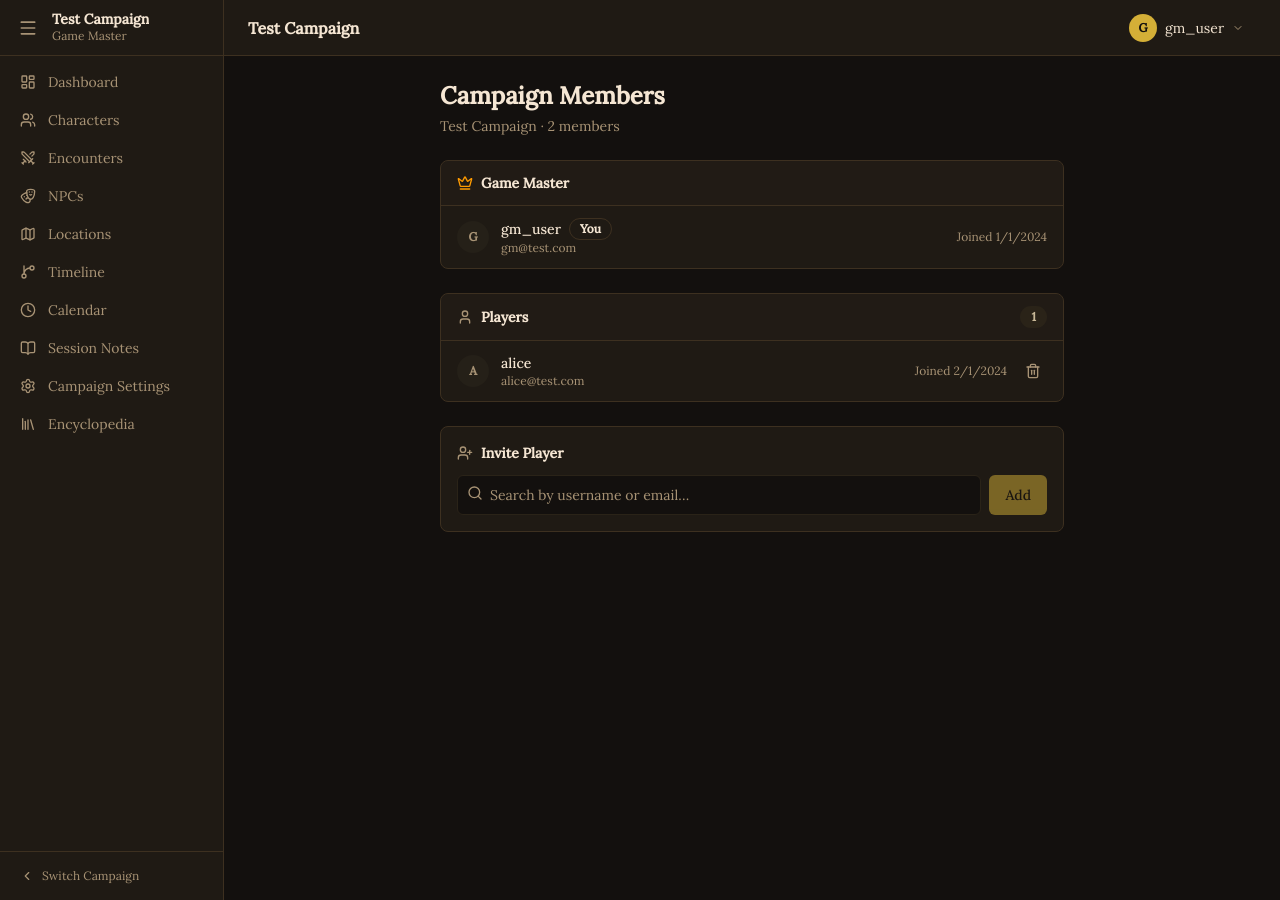
Test: CampaignMembers › selecting a result enables Add button and shows confirmation text
Type "bo" into the field with test id "invite-search" at x=719, y=495, box [457, 475, 981, 515]
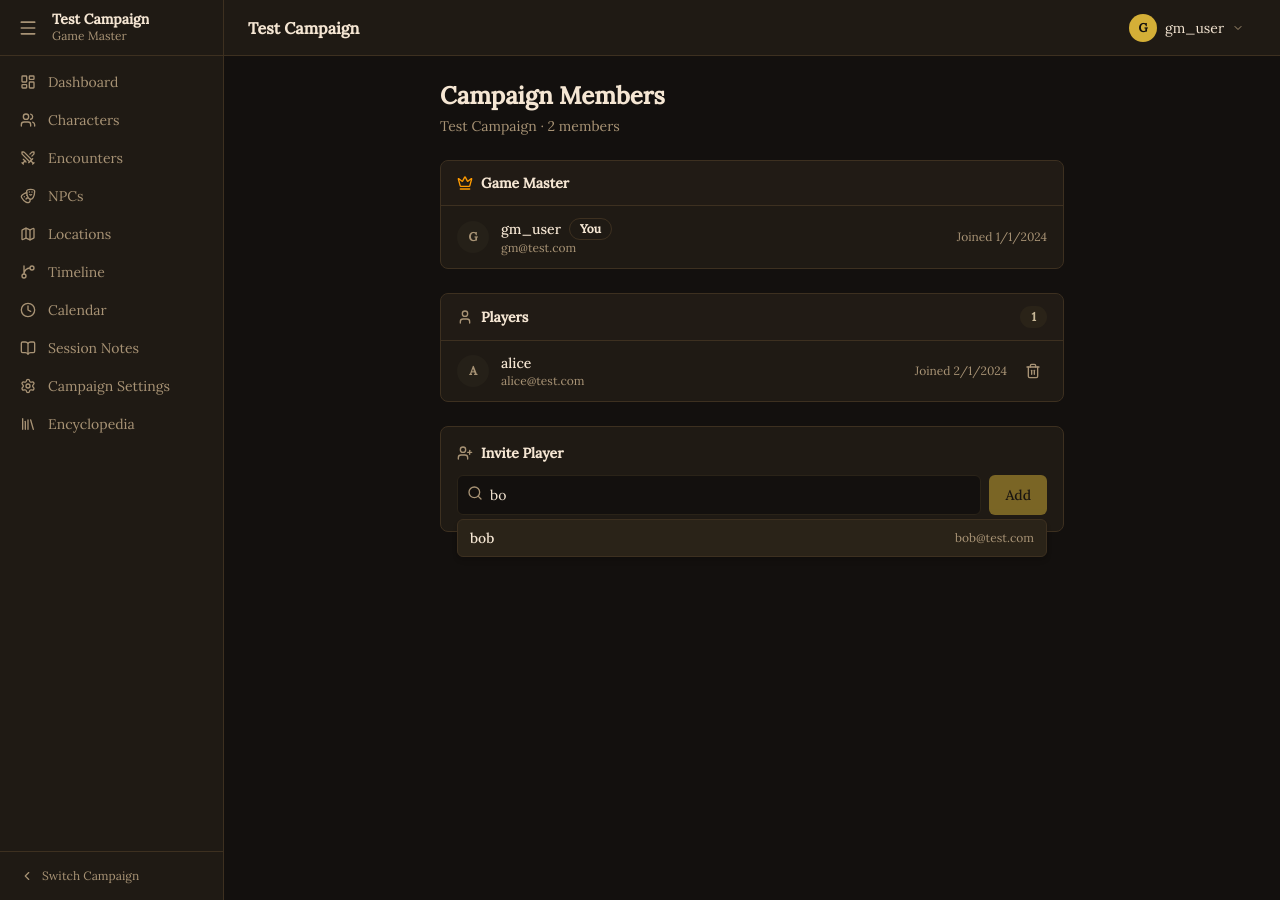
Expected: the button with test id "search-result-99" is shown
Click the button with test id "search-result-99" at x=995, y=538, box [458, 520, 1046, 556]
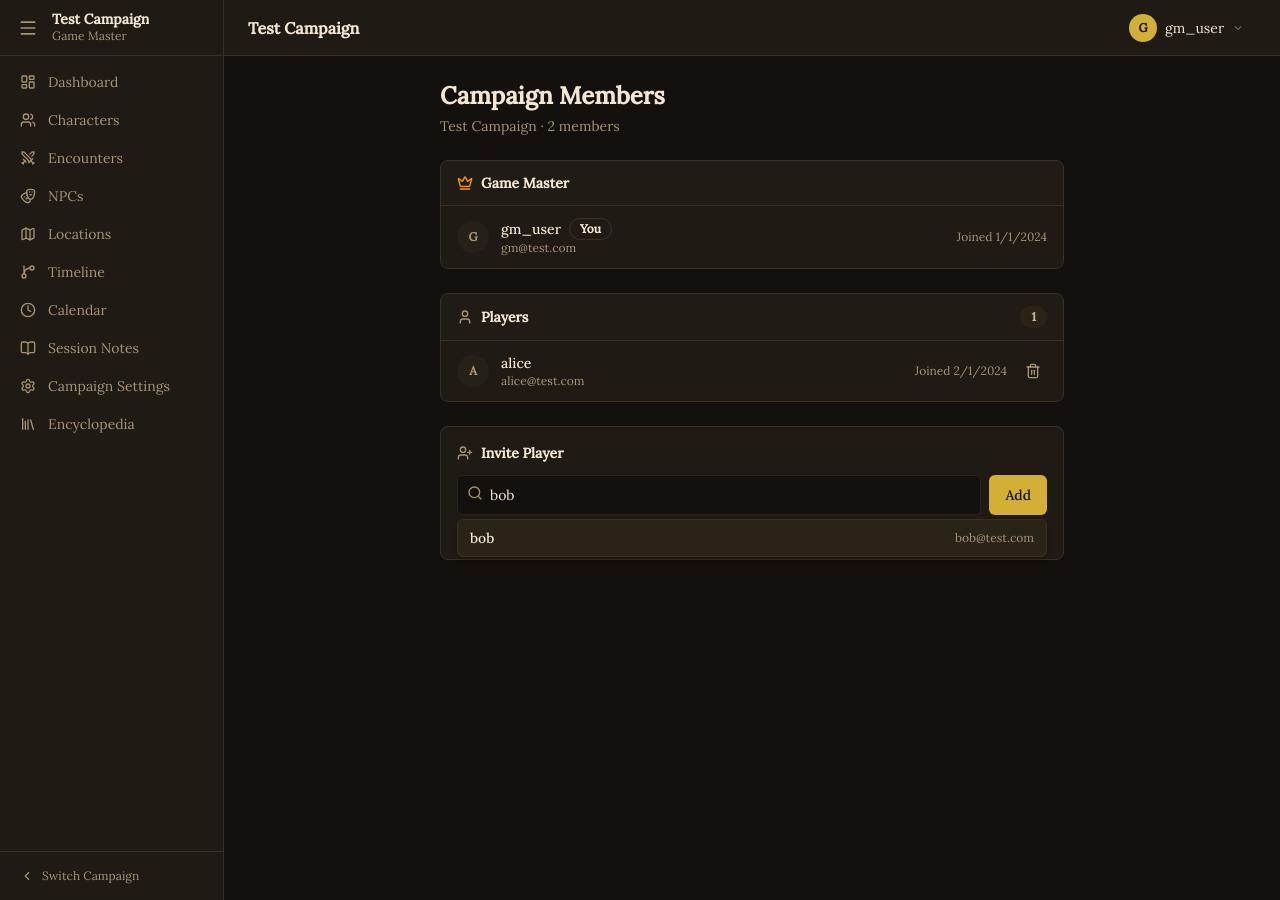
Expected: the text "Ready to invite bob (bob@test.com)" is shown, [457, 527, 653, 542]
Expected: the button "Add" is enabled, [989, 475, 1047, 515]
